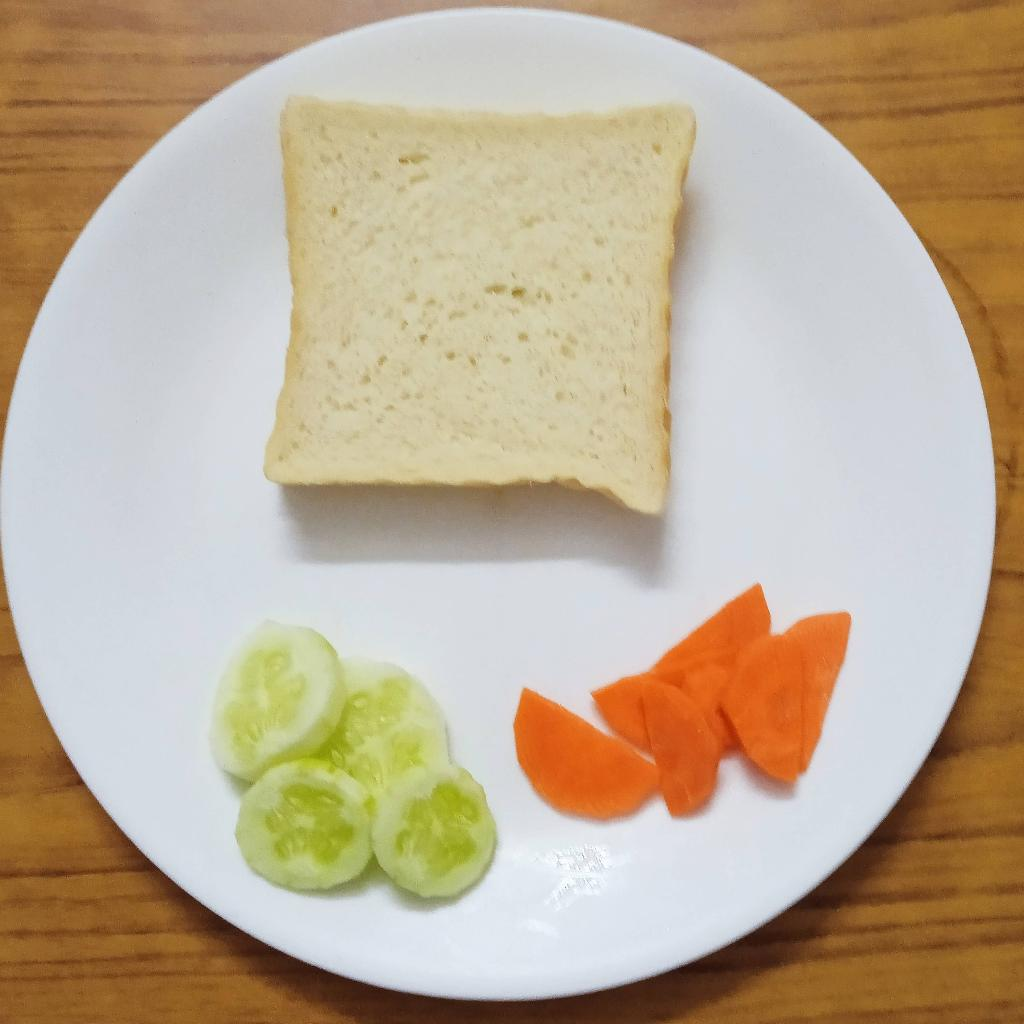bread: (269, 91, 698, 511)
carrot: (514, 585, 855, 818)
cucumber: (207, 614, 497, 901)
